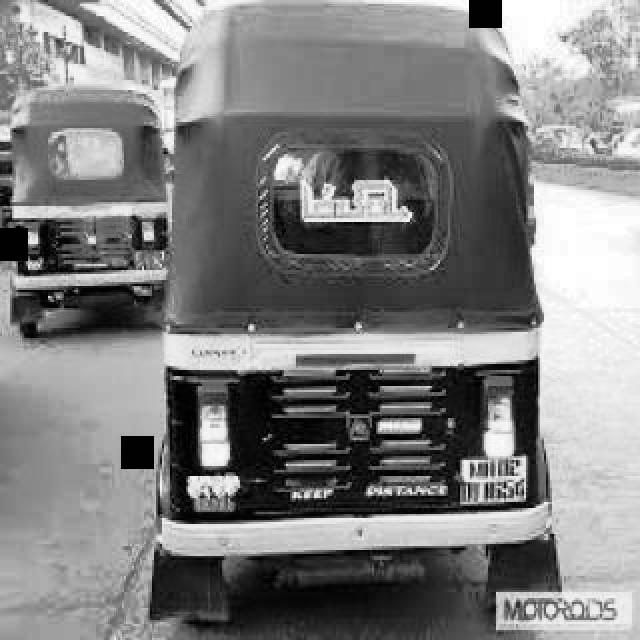Auto-Rickshaw: (162, 18, 568, 606), (4, 80, 186, 336)
